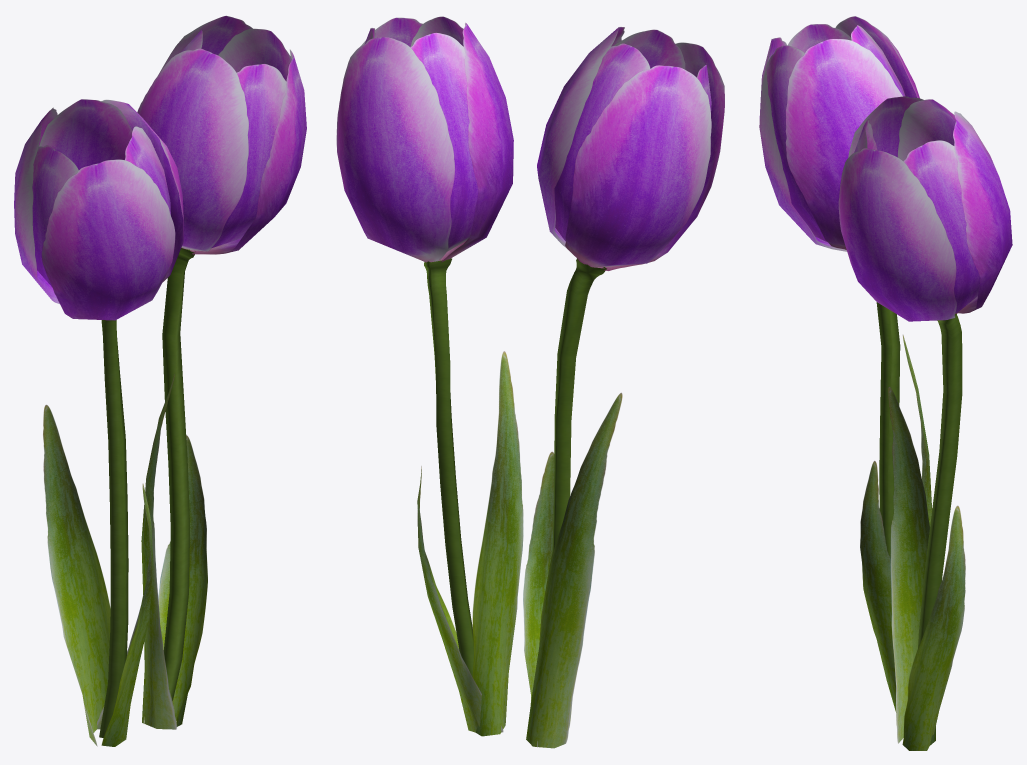
The model's file is tulip.glb.
The picture shows the model from 3 angles, left to right: view 1: azimuth 30°, elevation 25°; view 2: azimuth 150°, elevation 25°; view 3: azimuth 270°, elevation 25°; orthographic projection. The views are drawn at different scales.
Visible parts, largest first — view 1: Cylinder.002, Cylinder.001; view 2: Cylinder.001, Cylinder.002; view 3: Cylinder.001, Cylinder.002.
Part boxes in pixels (x1,y1,x2,y2): Cylinder.002: (14, 99, 183, 746); Cylinder.001: (137, 16, 306, 729); Cylinder.001: (336, 16, 523, 736); Cylinder.002: (523, 27, 724, 748); Cylinder.001: (838, 96, 1012, 750); Cylinder.002: (759, 16, 932, 712).
Bounding box in the file's own units: 10.64 × 21.36 × 7.43.
2 materials, 2 textured.
